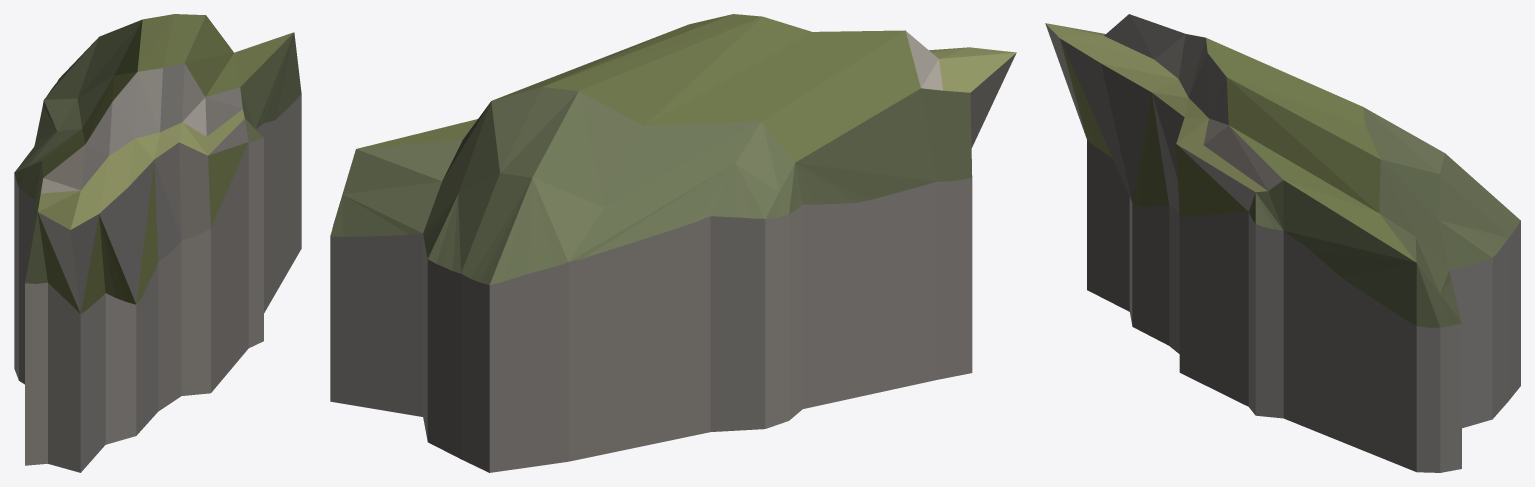
The model's file is cliff_crown.glb.
3 views of the same model, side by side, from view 1: azimuth 30°, elevation 25°; view 2: azimuth 150°, elevation 25°; view 3: azimuth 270°, elevation 25° (orthographic). The views are drawn at different scales.
Parts seen in each view (by area): view 1: cliff_crown; view 2: cliff_crown; view 3: cliff_crown.
Part boxes in pixels (x1=…): cliff_crown: x1=14, y1=14, x2=301, y2=472; cliff_crown: x1=330, y1=14, x2=1016, y2=472; cliff_crown: x1=1045, y1=14, x2=1520, y2=472.
Size of the model in its own units: 134 by 97 by 136.
